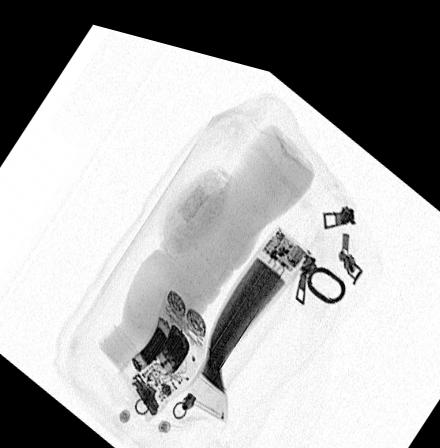Powerbank: (180, 209, 312, 410)
